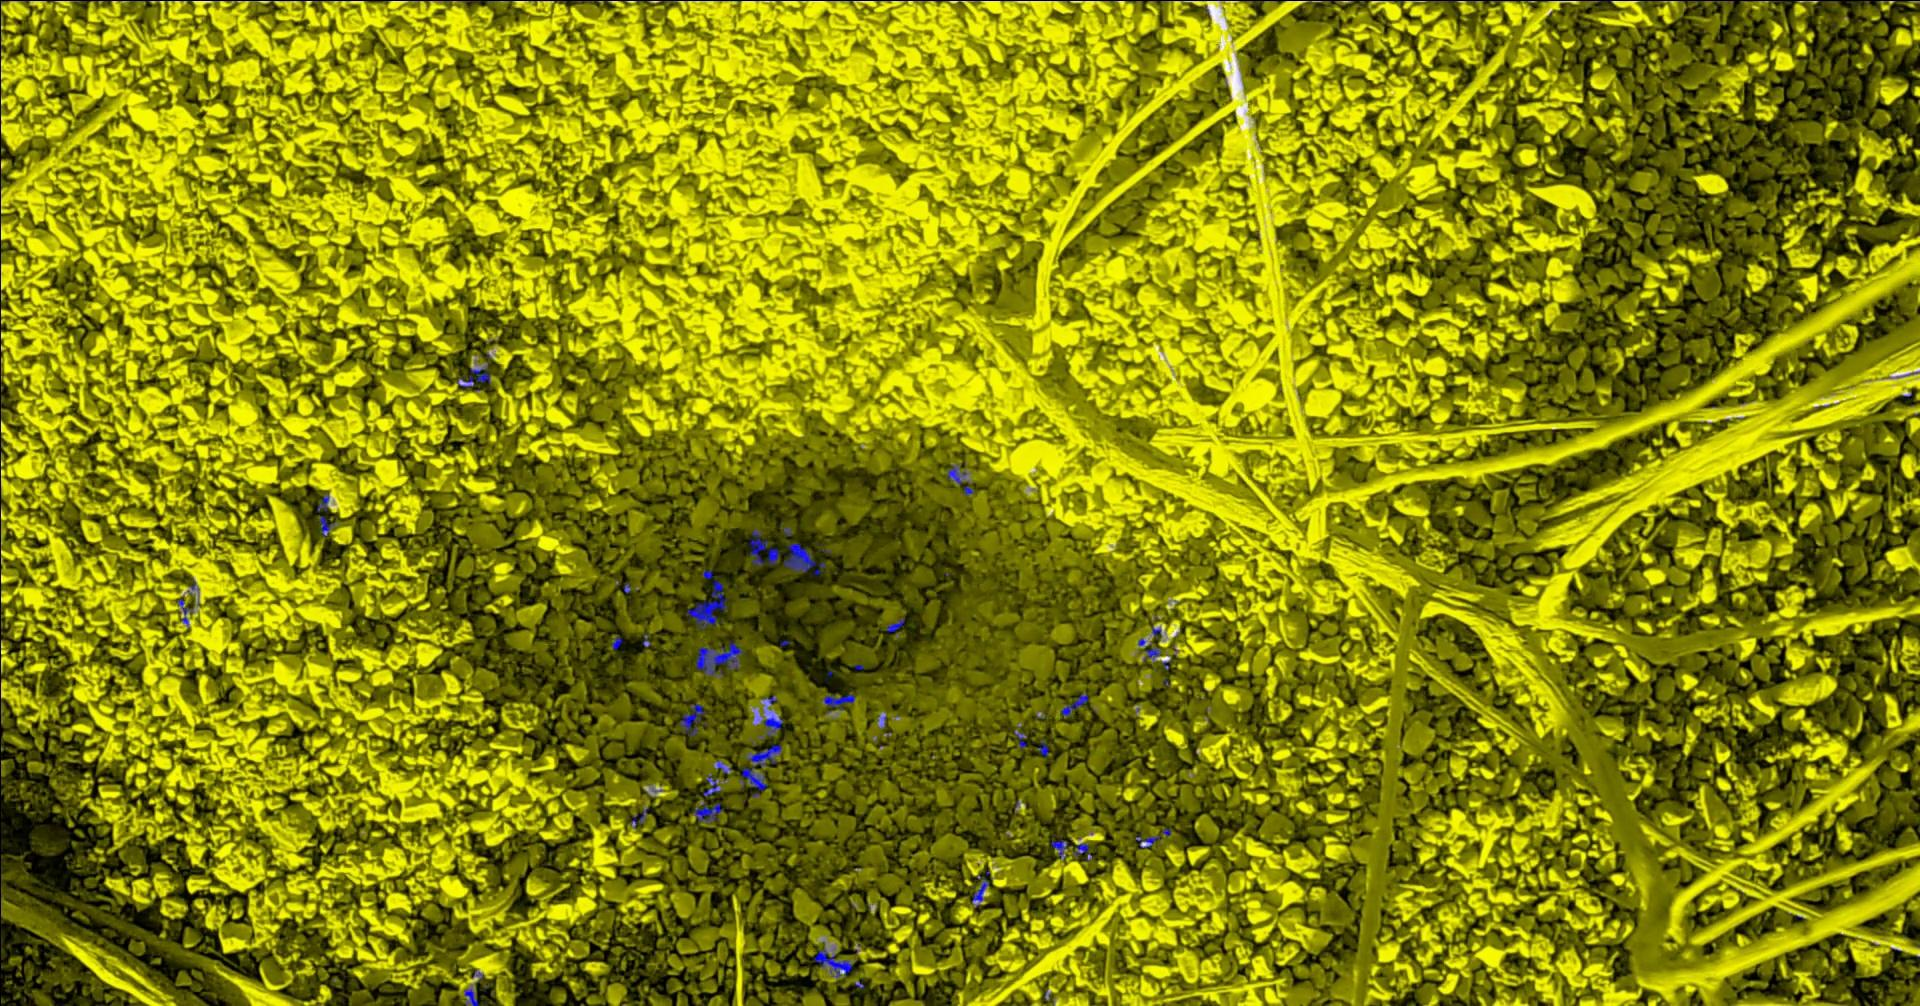ant: (684, 569, 726, 629), (739, 744, 782, 798), (695, 640, 743, 676), (813, 941, 852, 977), (783, 542, 825, 575), (748, 528, 778, 565), (679, 702, 707, 735), (456, 361, 490, 387), (946, 461, 973, 495), (1059, 694, 1088, 716), (692, 801, 723, 823), (820, 694, 855, 713), (757, 715, 782, 741), (971, 870, 989, 906), (1137, 636, 1161, 661), (702, 772, 726, 796), (177, 594, 193, 627), (630, 807, 648, 828), (1050, 840, 1072, 857), (1072, 842, 1091, 860), (317, 514, 334, 535), (885, 617, 904, 634), (1135, 835, 1159, 847), (1013, 725, 1026, 748), (714, 760, 731, 774), (463, 988, 477, 1005), (1035, 739, 1048, 756), (316, 493, 328, 511)
